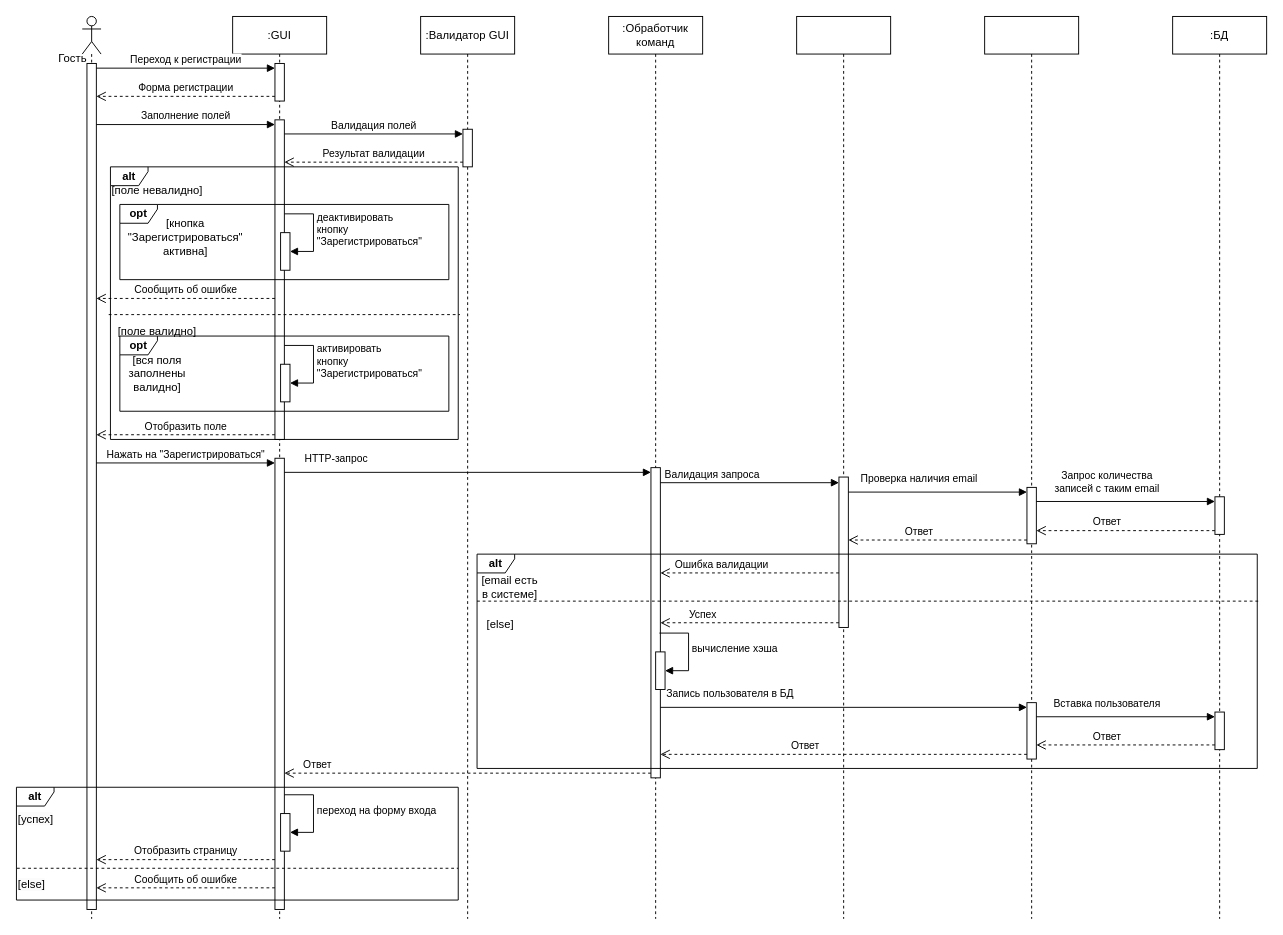
Image size: 1283x935. Some labels were removed from this diagram. Each missing label, with the centre of its shape:
":Валидатор сервера" belongs at point 843,467.
":Коннектор с БД" belongs at point 1031,467.
